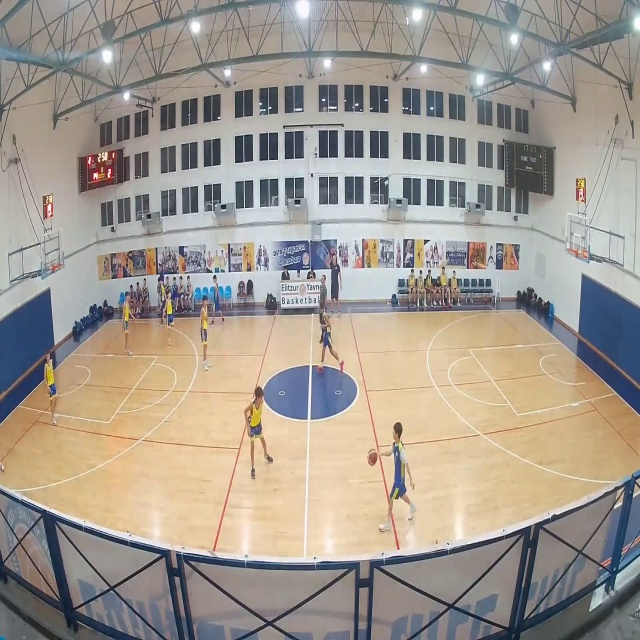Basketball: (367, 450, 378, 466)
